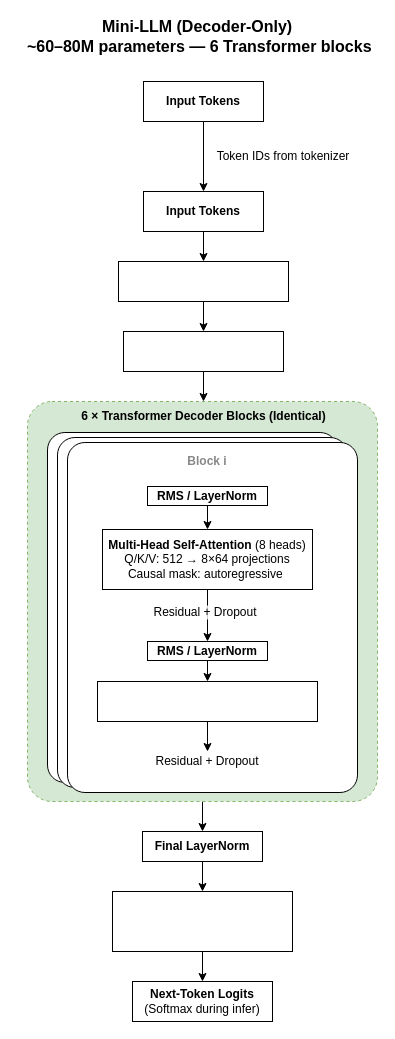
Image size: 395x1039. Some labels were removed from this diagram. Each missing label, with the centre of its shape:
"Embedding Dropout" belongs at point (203, 351).
"Feed-Forward Network (FFN) 512 → 2048 → 512 (GELU activation)" belongs at point (207, 701).
"LM Head (Output) Linear: 512 → Vocab Weight-tied w/ Embeds" belongs at point (202, 921).
"Positional Embeddings (learned or RoPE)" belongs at point (203, 281).
